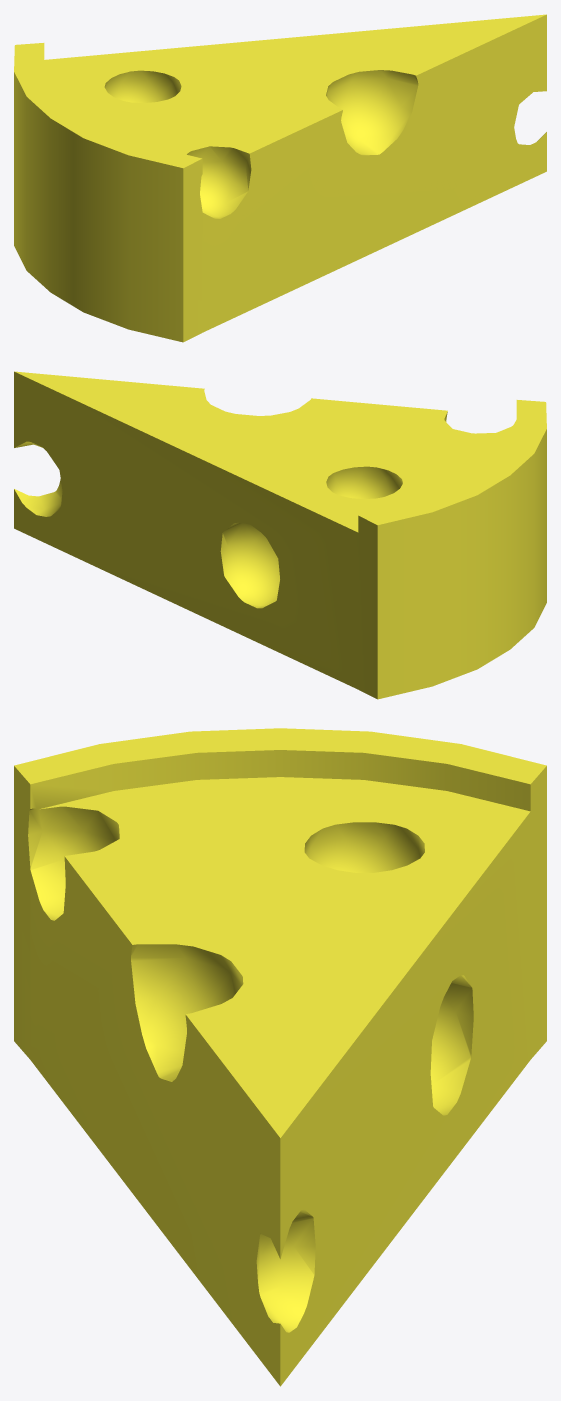
The model's file is cheese.glb.
The picture shows the model from 3 angles, top to bottom: view 1: azimuth 30°, elevation 25°; view 2: azimuth 150°, elevation 25°; view 3: azimuth 270°, elevation 25°; orthographic projection. The views are drawn at different scales.
Parts seen in each view (by area): view 1: Cube.003; view 2: Cube.003; view 3: Cube.003.
Part boxes in pixels (x1,y1,x2,y2): Cube.003: (14, 14, 546, 342); Cube.003: (14, 371, 546, 699); Cube.003: (14, 728, 546, 1386).
Size of the model in its own units: 2.72 by 0.9114 by 1.6.
